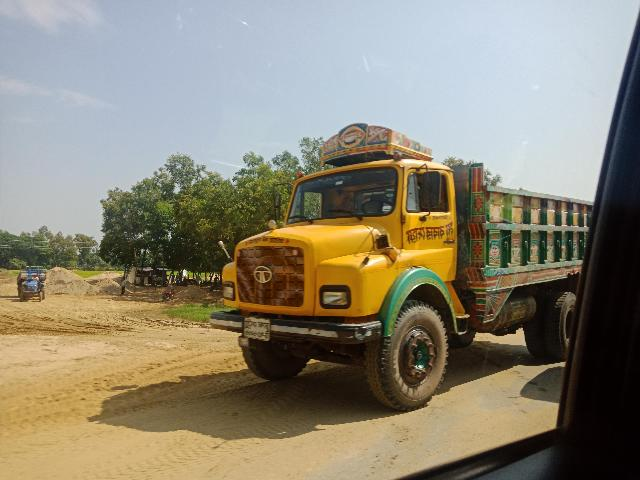truck: (199, 114, 590, 406)
